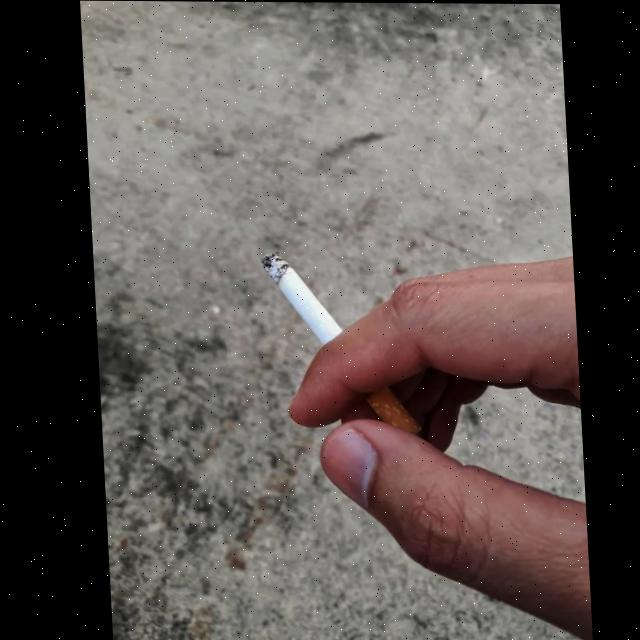cigarette: (258, 249, 418, 434)
